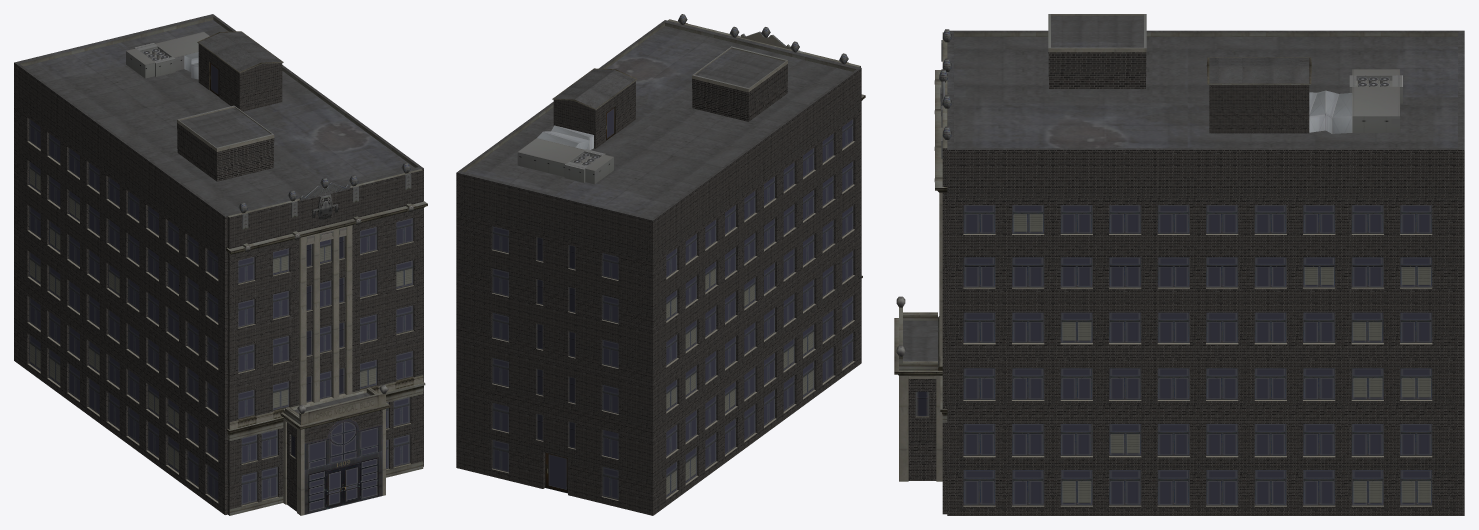
Rendered from medical.glb.
3 renders of one model, left to right at view 1: azimuth 30°, elevation 25°; view 2: azimuth 150°, elevation 25°; view 3: azimuth 270°, elevation 25°, orthographic. The views are drawn at different scales.
Visible parts, largest first — view 1: Object_2; view 2: Object_2; view 3: Object_2.
Boxes of the visible parts, <box> form: Object_2: <box>14,14,427,515</box>; Object_2: <box>456,14,865,515</box>; Object_2: <box>894,14,1464,515</box>.
Size of the model in its own units: 1348 by 2199 by 2729.
Materials: 1 (1 with a texture image).
